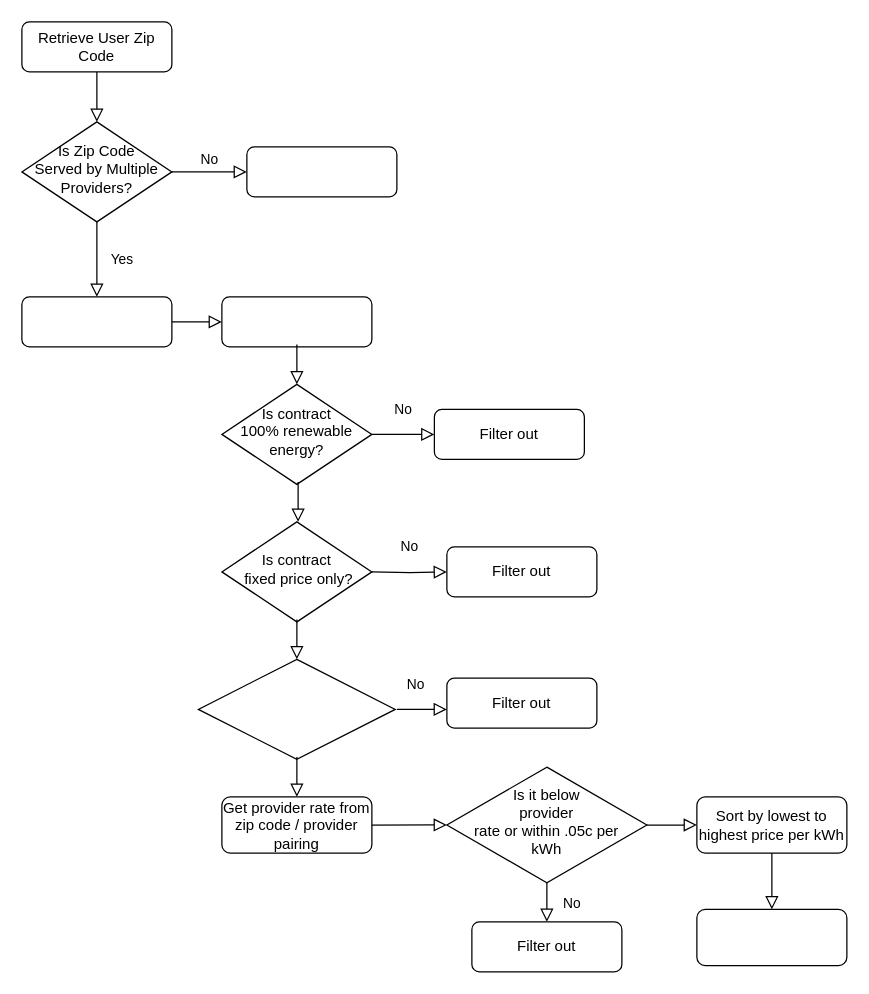
Image size: 869x994. Some labels were removed from this diagram. The box of each missing label's shape, as (x1, y1, x2, y2) in pixels:
Any cancellation, introductory or fees?: (197, 658, 395, 759)
Chose sole provider by default: (246, 146, 397, 197)
Gather utilized provider from user: (21, 296, 172, 347)
Retrieve all Contract Options: (221, 296, 372, 347)
Return Options to User: (696, 908, 847, 966)
